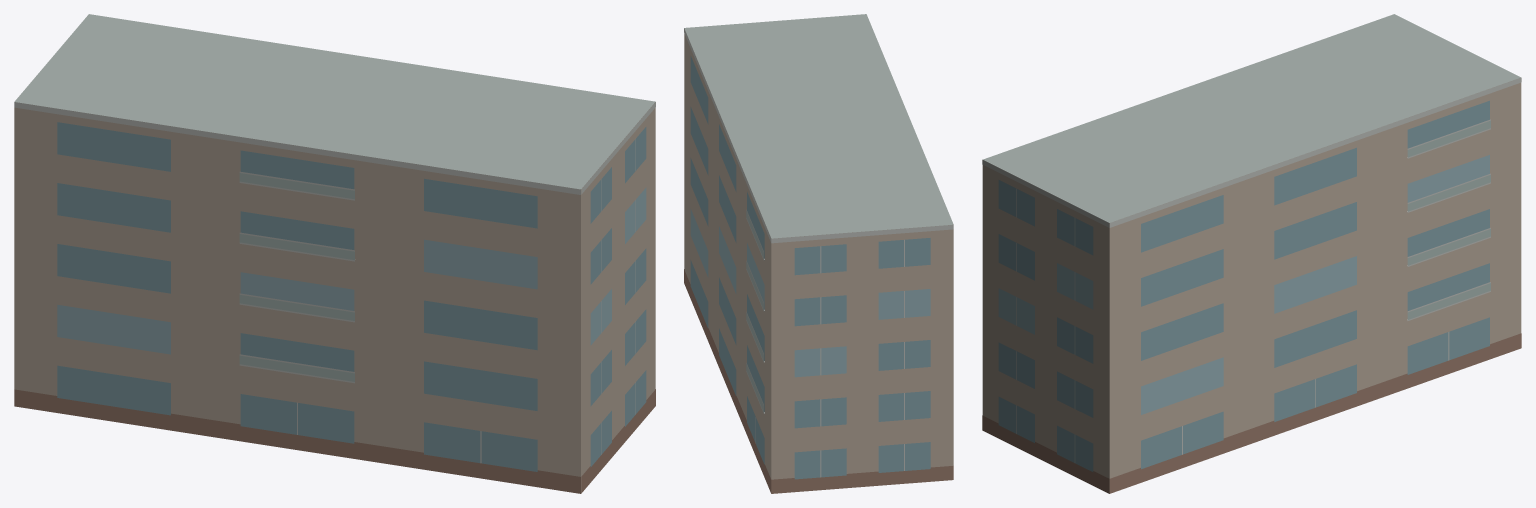
File: survey-upis-32629978.glb
The picture shows the model from 3 angles, left to right: view 1: azimuth 30°, elevation 25°; view 2: azimuth 150°, elevation 25°; view 3: azimuth 270°, elevation 25°; orthographic projection. The views are drawn at different scales.
Visible parts, largest first — view 1: survey-upis-32629978.tmp; view 2: survey-upis-32629978.tmp; view 3: survey-upis-32629978.tmp.
Boxes of the visible parts, x1=… form: survey-upis-32629978.tmp: x1=14, y1=14, x2=655, y2=493; survey-upis-32629978.tmp: x1=684, y1=14, x2=953, y2=493; survey-upis-32629978.tmp: x1=982, y1=14, x2=1521, y2=493.
Size of the model in its own units: 21.86 by 13.2 by 23.81.
